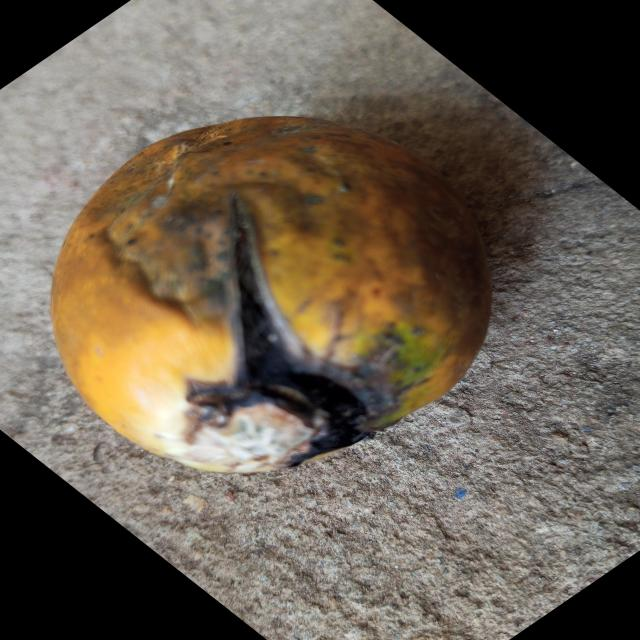damaged: (51, 117, 492, 474)
